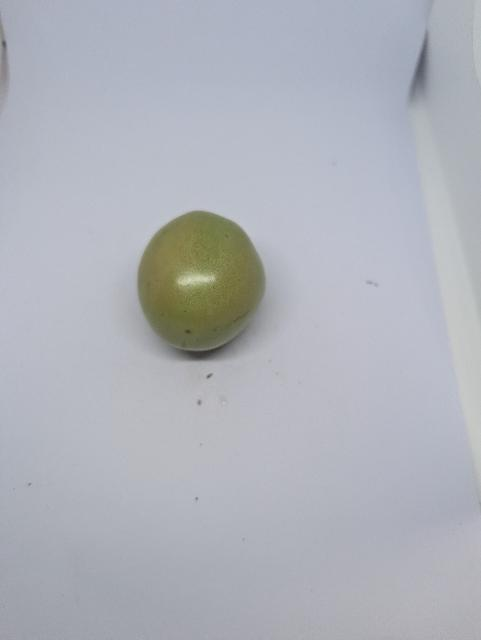green: (135, 210, 268, 355)
